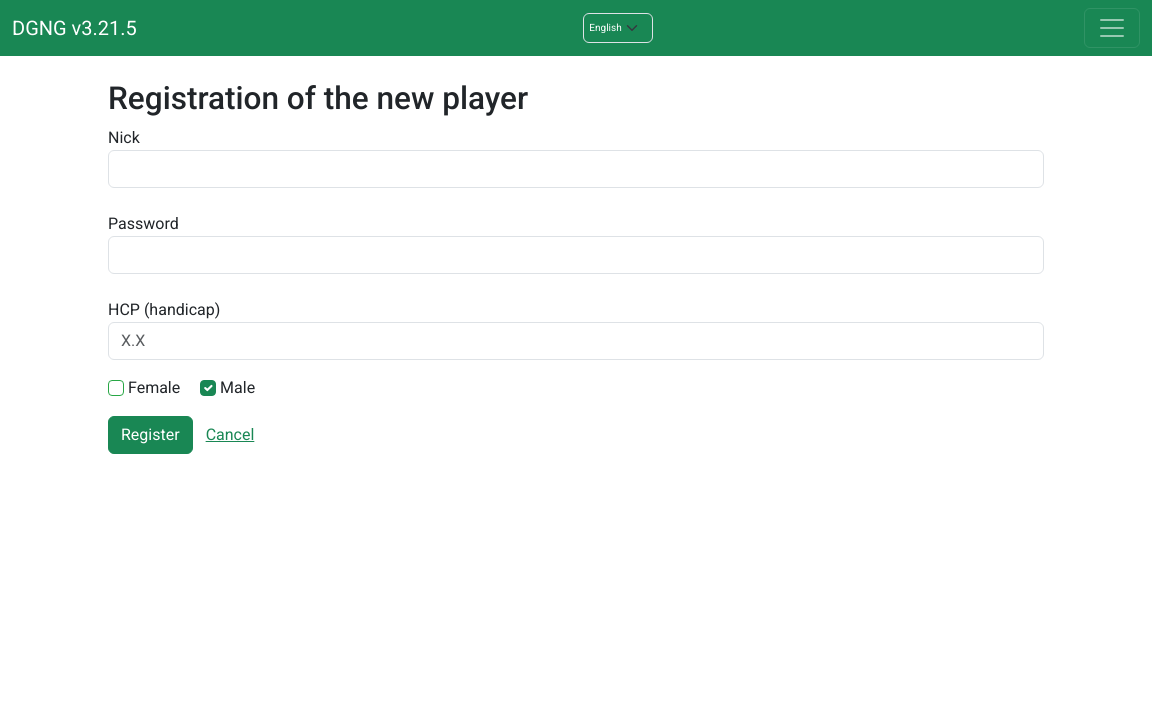
Scenario: Register Test › Form submission › tries to register with too long nick
This screenshot has width=1152, height=720.
Type "welcome" into the password field named "password" at x=576, y=255, box [108, 236, 1044, 274]
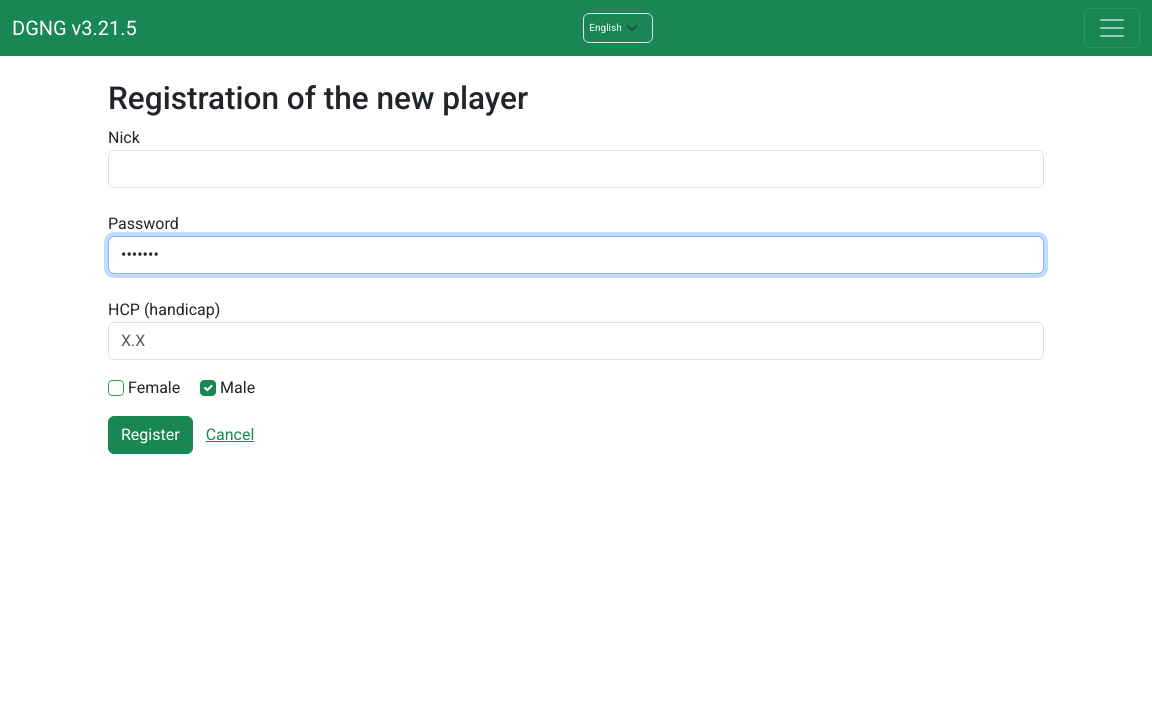
Note: nick canot be longer than 10 characters
Type "12345678901" into the field named "nick" at x=576, y=169, box [108, 150, 1044, 188]
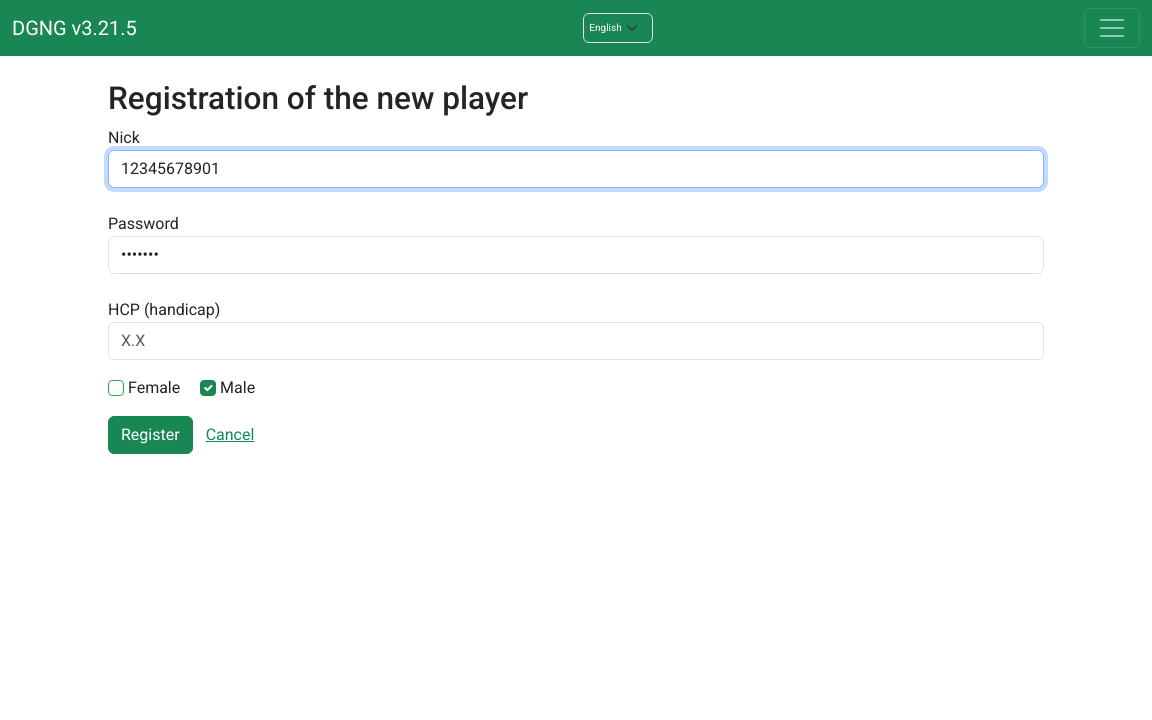
Submit the form, box [108, 126, 1044, 454]
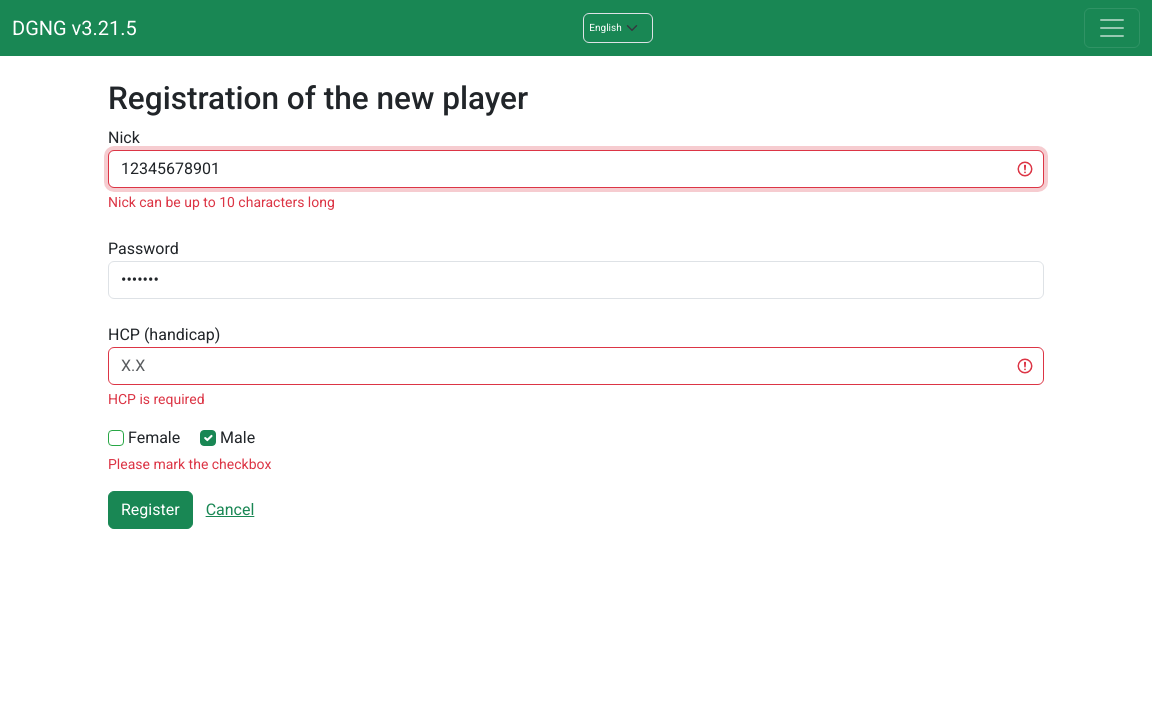
Now the text "Nick can be up to 10 characters long" is shown, box [108, 194, 335, 210]
